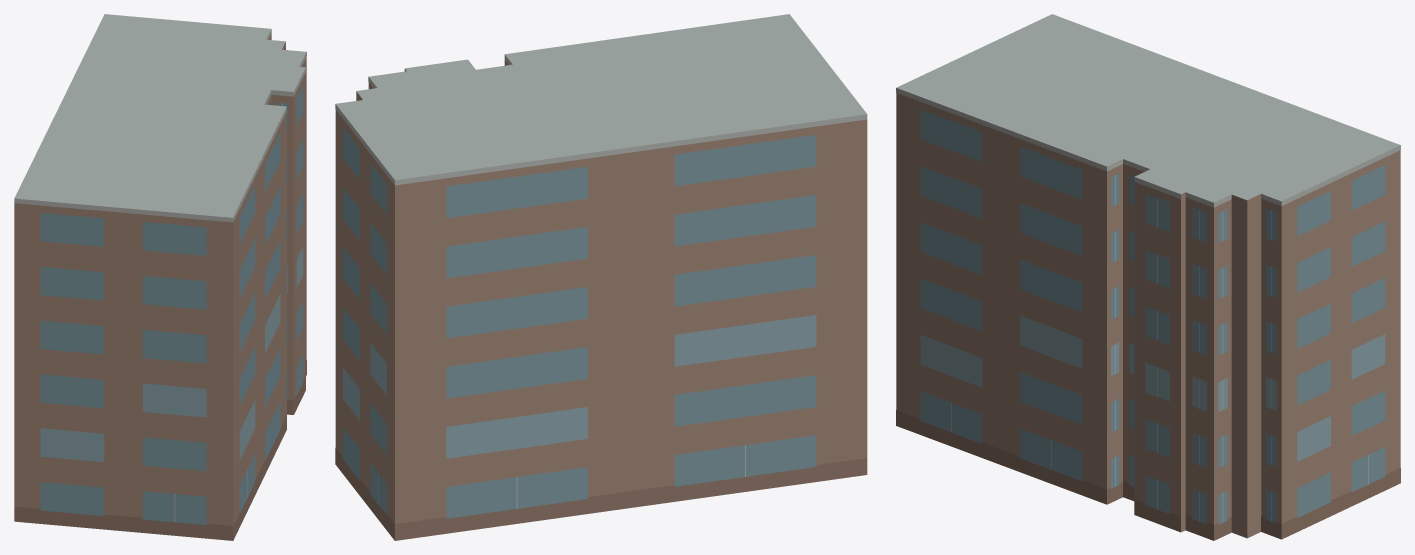
The model's file is survey-upis-32539395.glb.
3 renders of one model, left to right at view 1: azimuth 30°, elevation 25°; view 2: azimuth 150°, elevation 25°; view 3: azimuth 270°, elevation 25°, orthographic. The views are drawn at different scales.
Visible parts, largest first — view 1: survey-upis-32539395.tmp; view 2: survey-upis-32539395.tmp; view 3: survey-upis-32539395.tmp.
Boxes of the visible parts, left/top/right/bottom form: survey-upis-32539395.tmp: left=14, top=14, right=306, bottom=540; survey-upis-32539395.tmp: left=335, top=14, right=867, bottom=540; survey-upis-32539395.tmp: left=896, top=14, right=1400, bottom=540.
Size of the model in its own units: 20.43 by 17.05 by 23.07.
